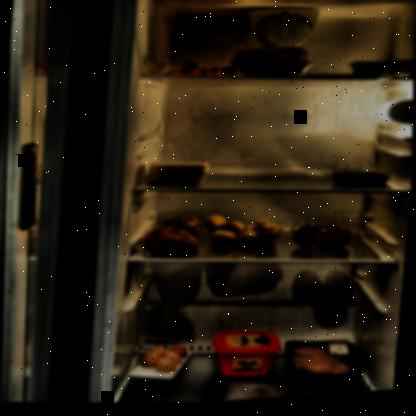blueberries: (332, 171, 392, 196)
butter: (211, 329, 286, 385)
carrot: (165, 56, 239, 85)
chicken: (283, 342, 364, 397), (232, 42, 315, 87)
eggs: (141, 341, 191, 379)
potato: (201, 215, 285, 254)
shrimp: (353, 64, 413, 89)
sweet_potato: (143, 215, 204, 264)
tomato: (288, 223, 356, 261)
